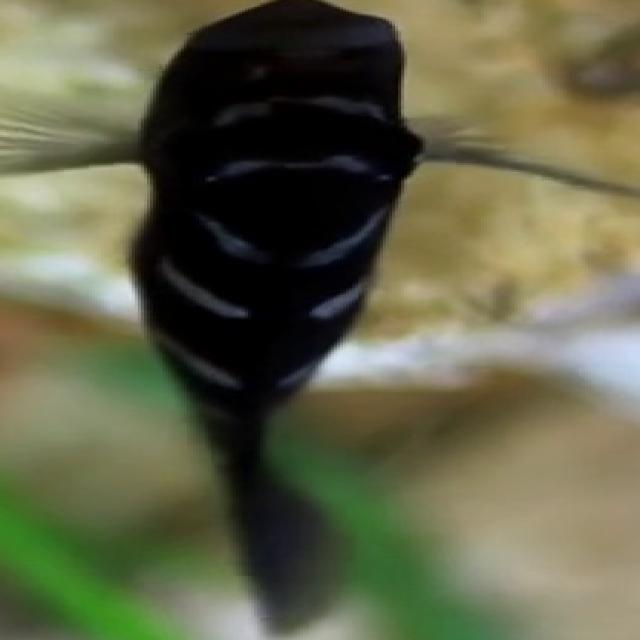fish: (3, 0, 640, 639)
